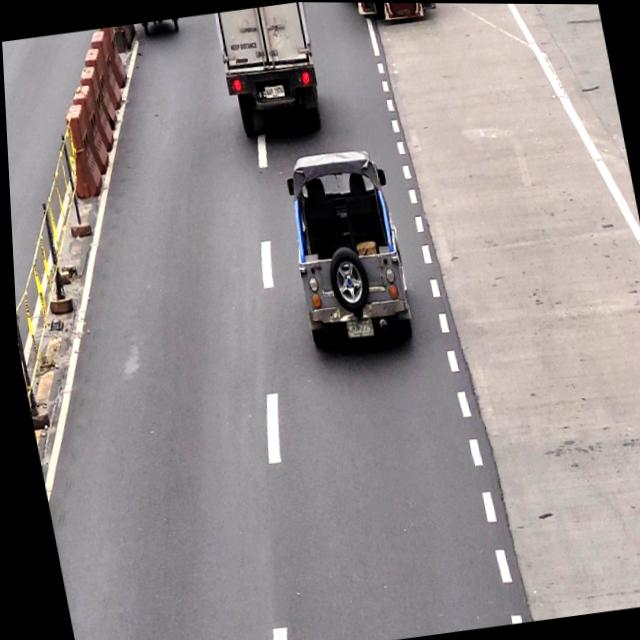Jeep: (279, 144, 412, 350)
License-Plate: (340, 315, 373, 342), (260, 82, 287, 101)
Truck: (217, 1, 328, 138)
